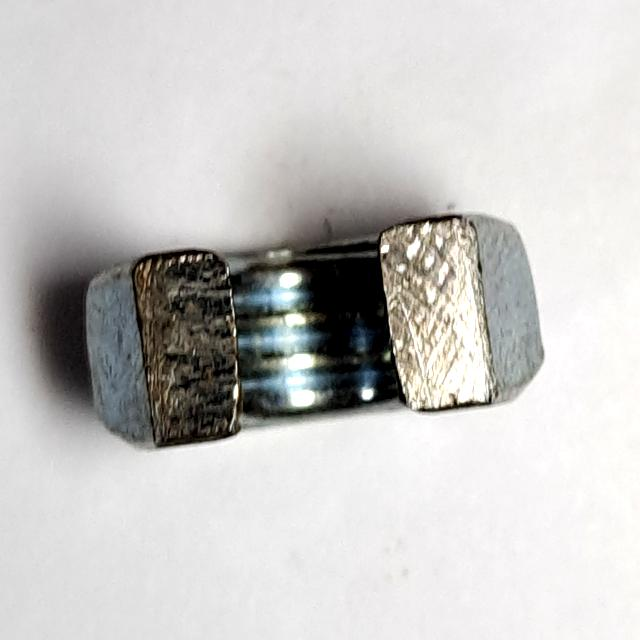Side-Fracture: (72, 200, 558, 466)
